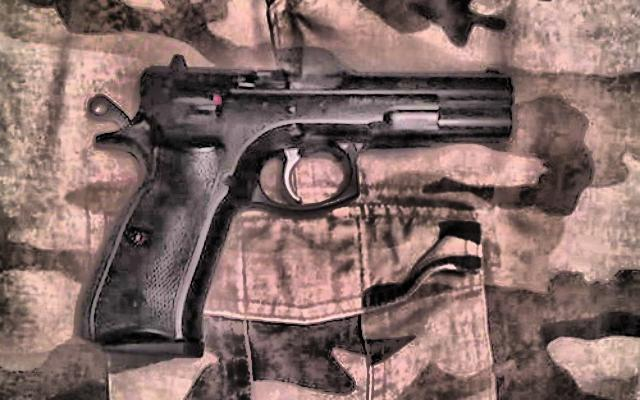pistol: (72, 54, 516, 352)
